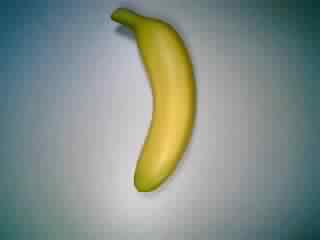banana: (107, 5, 197, 195)
